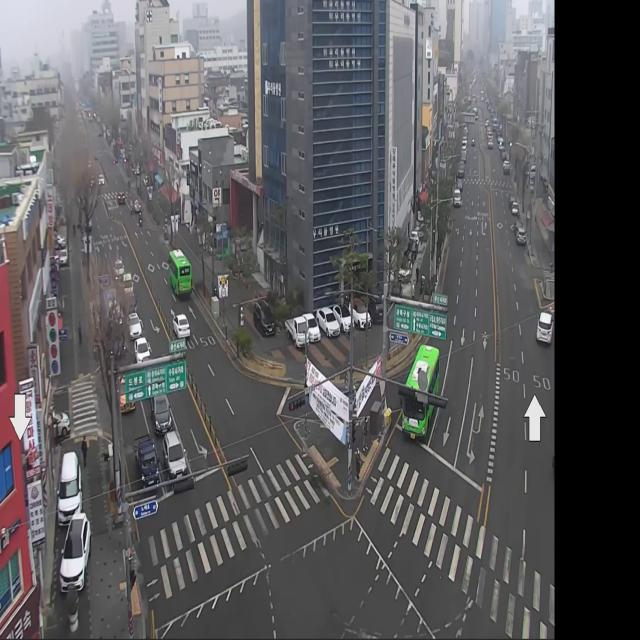car: (400, 344, 443, 447), (165, 243, 196, 305), (436, 319, 442, 345)
motorcycle: (162, 423, 188, 486), (535, 305, 554, 350), (170, 308, 192, 341)
truck: (130, 428, 162, 495)
